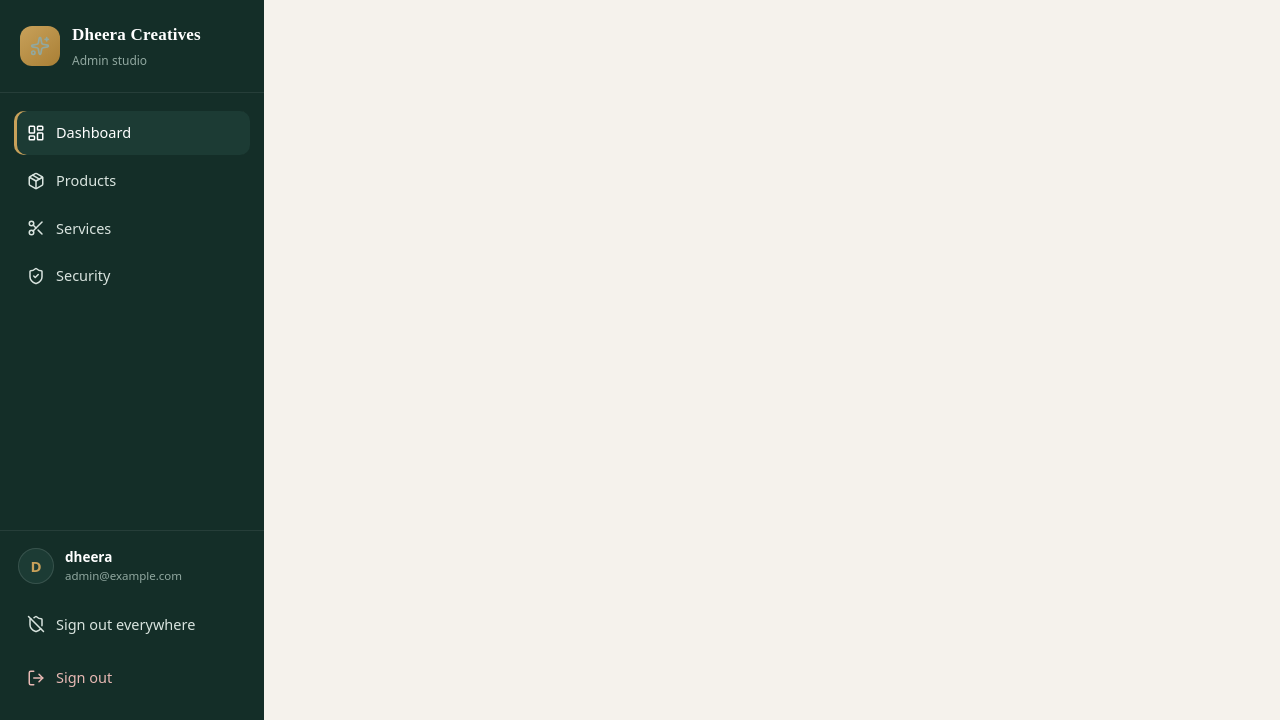
it: sign out everywhere › confirms, revokes every session and returns to login
The image size is (1280, 720).
Expected: the text "dheera" is shown, [65, 548, 112, 566]
Click the button "Sign out everywhere" at coordinates (132, 624), box [14, 602, 250, 646]
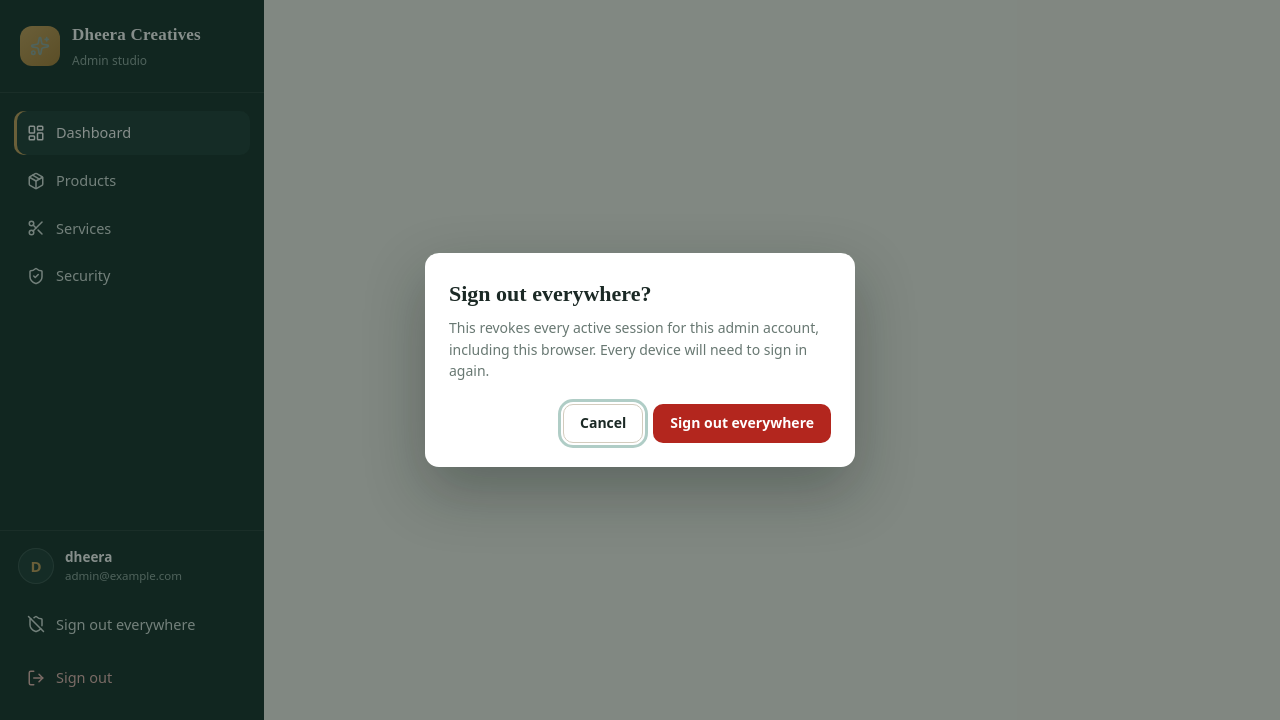
Expected: the dialog shows "every active session", [449, 318, 819, 380]
Click the button "Sign out everywhere" at coordinates (742, 424), box [653, 404, 831, 443]
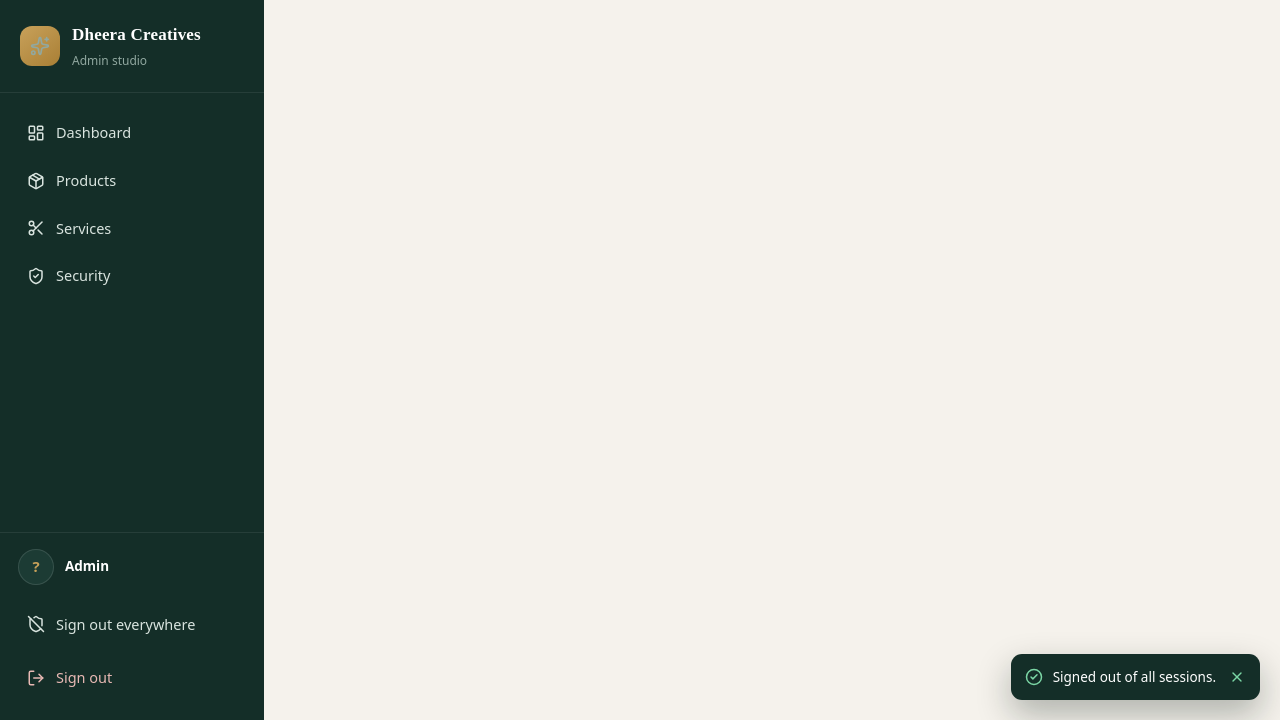
Expected: the text "Signed out of all sessions." is shown, [1053, 667, 1216, 687]
